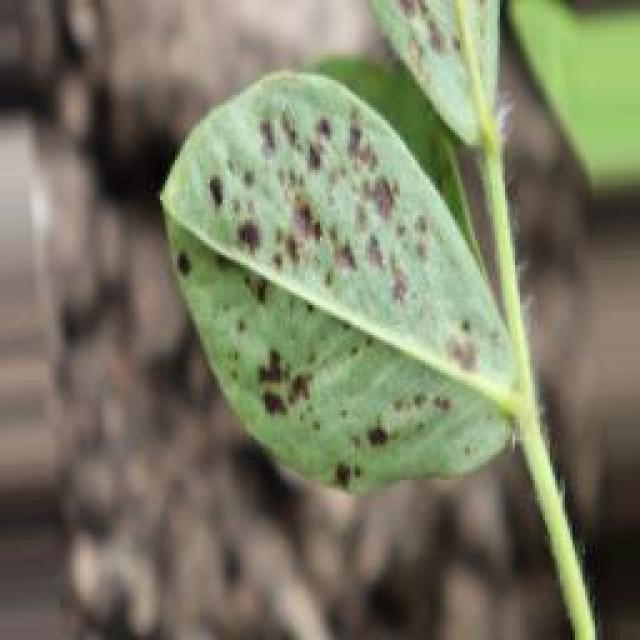Whitefly: (146, 68, 518, 469), (372, 0, 516, 149)
